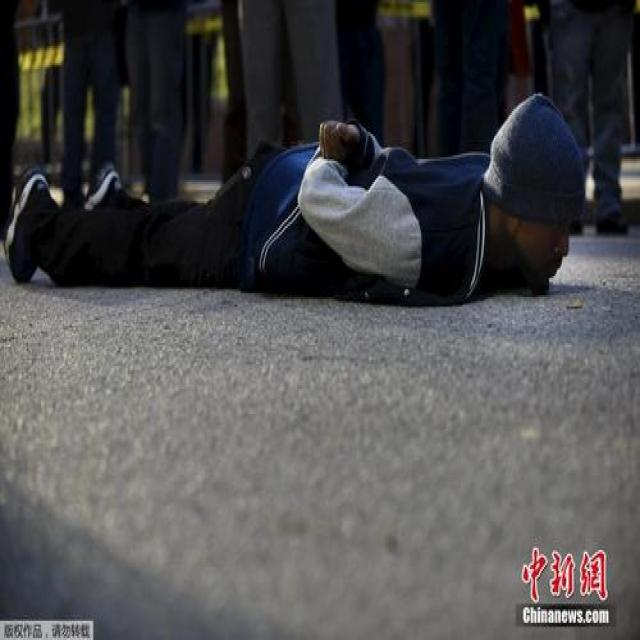fall: (27, 119, 585, 312)
